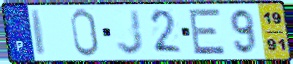0: (69, 7, 101, 59)
2: (149, 7, 183, 57)
9: (228, 7, 259, 55)
E: (188, 8, 228, 57)
I: (29, 9, 48, 58)
J: (115, 9, 146, 57)
